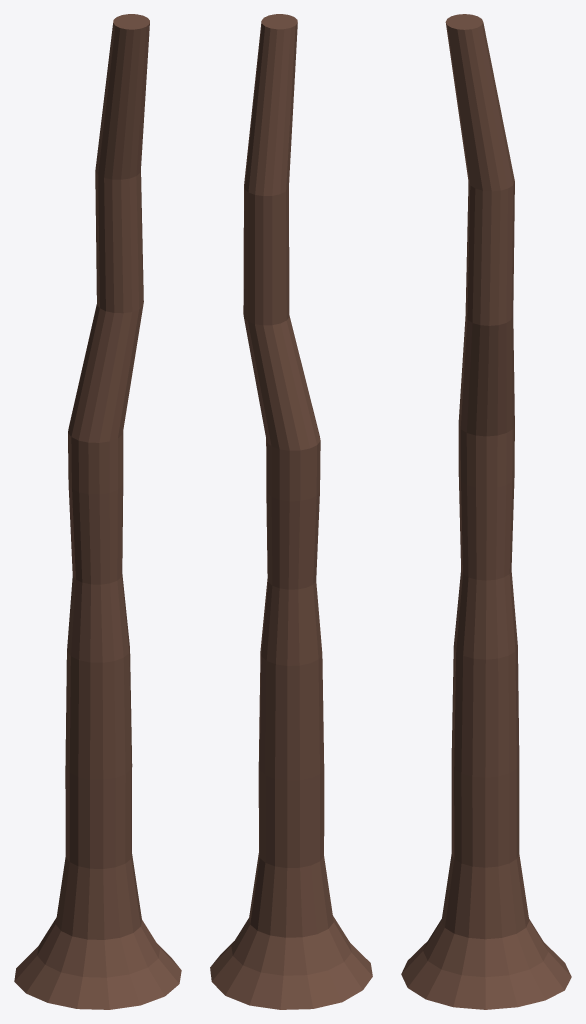
Rendered from TorMai_A.fbx.
3 views of the same model, side by side, from view 1: azimuth 30°, elevation 25°; view 2: azimuth 150°, elevation 25°; view 3: azimuth 270°, elevation 25° (orthographic). The views are drawn at different scales.
Parts seen in each view (by area): view 1: Cylinder.062; view 2: Cylinder.062; view 3: Cylinder.062.
Part boxes in pixels (box(x1,y1,x2,y2)): Cylinder.062: box(14, 14, 181, 1009); Cylinder.062: box(210, 14, 372, 1009); Cylinder.062: box(401, 14, 571, 1009).
Size of the model in its own units: 1057 by 6654 by 1065.
